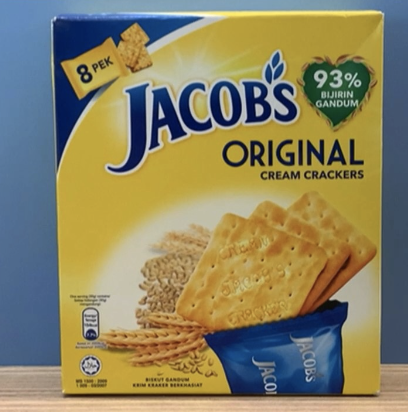crackers_150g: (71, 24, 375, 387)
